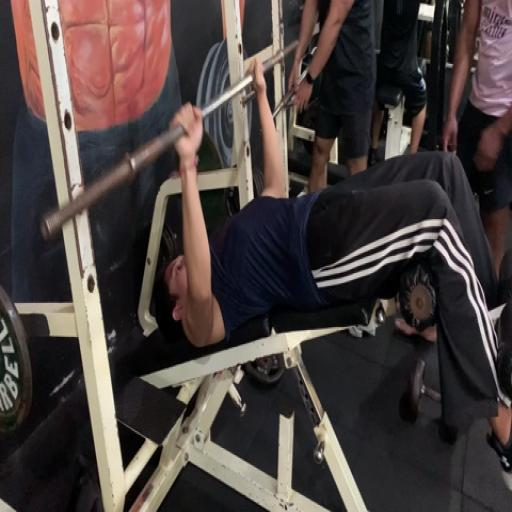exercise: (149, 56, 511, 496)
